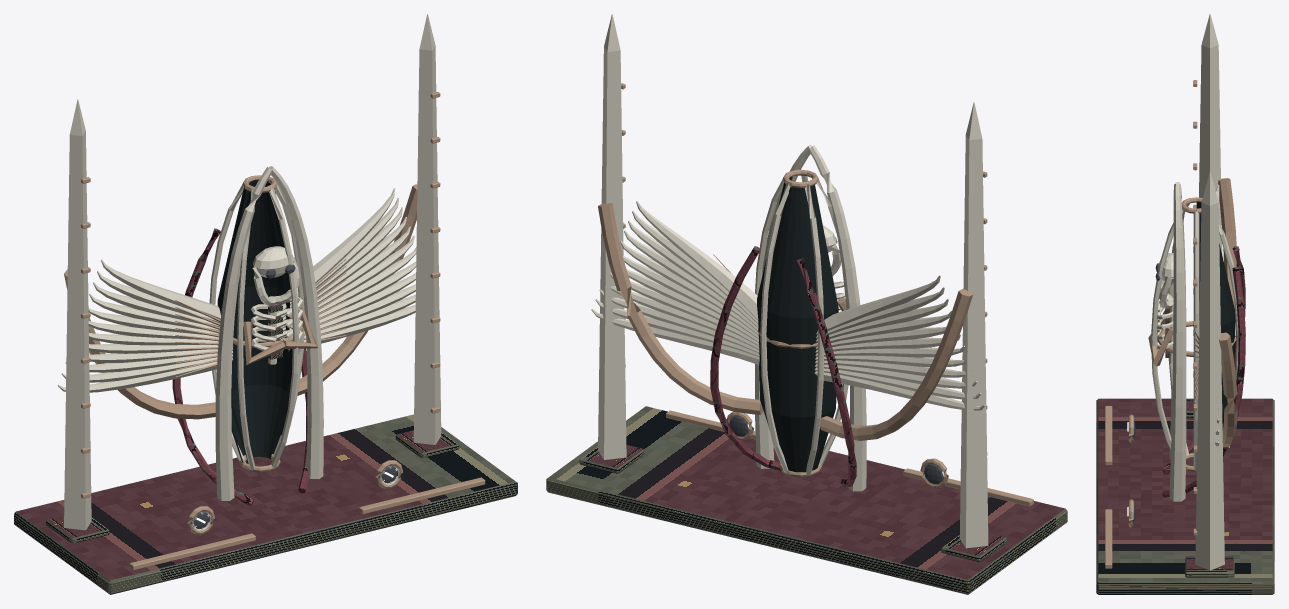
The model's file is reliquary_winged_seal.glb.
The picture shows the model from 3 angles, left to right: view 1: azimuth 30°, elevation 25°; view 2: azimuth 150°, elevation 25°; view 3: azimuth 270°, elevation 25°; orthographic projection. The views are drawn at different scales.
Parts seen in each view (by area): view 1: reliquary_winged_seal_warm, reliquary_winged_seal_petrol, reliquary_winged_seal_worn, reliquary_winged_seal_bruised; view 2: reliquary_winged_seal_petrol, reliquary_winged_seal_warm, reliquary_winged_seal_worn, reliquary_winged_seal_bruised; view 3: reliquary_winged_seal_petrol, reliquary_winged_seal_warm, reliquary_winged_seal_worn, reliquary_winged_seal_bruised.
Part boxes in pixels (x1,y1,x2,y2): reliquary_winged_seal_warm: [57, 14, 441, 530]; reliquary_winged_seal_petrol: [14, 179, 517, 594]; reliquary_winged_seal_worn: [64, 92, 485, 570]; reliquary_winged_seal_bruised: [172, 228, 309, 506]; reliquary_winged_seal_petrol: [546, 176, 1067, 594]; reliquary_winged_seal_warm: [591, 14, 988, 548]; reliquary_winged_seal_worn: [598, 83, 1033, 506]; reliquary_winged_seal_bruised: [710, 246, 856, 486]; reliquary_winged_seal_petrol: [1096, 201, 1274, 594]; reliquary_winged_seal_warm: [1129, 14, 1238, 570]; reliquary_winged_seal_worn: [1105, 80, 1237, 568]; reliquary_winged_seal_bruised: [1162, 246, 1245, 497].
Bounding box in the file's own units: 7.1 × 7.36 × 2.9.
Materials: 6 (2 with a texture image).
